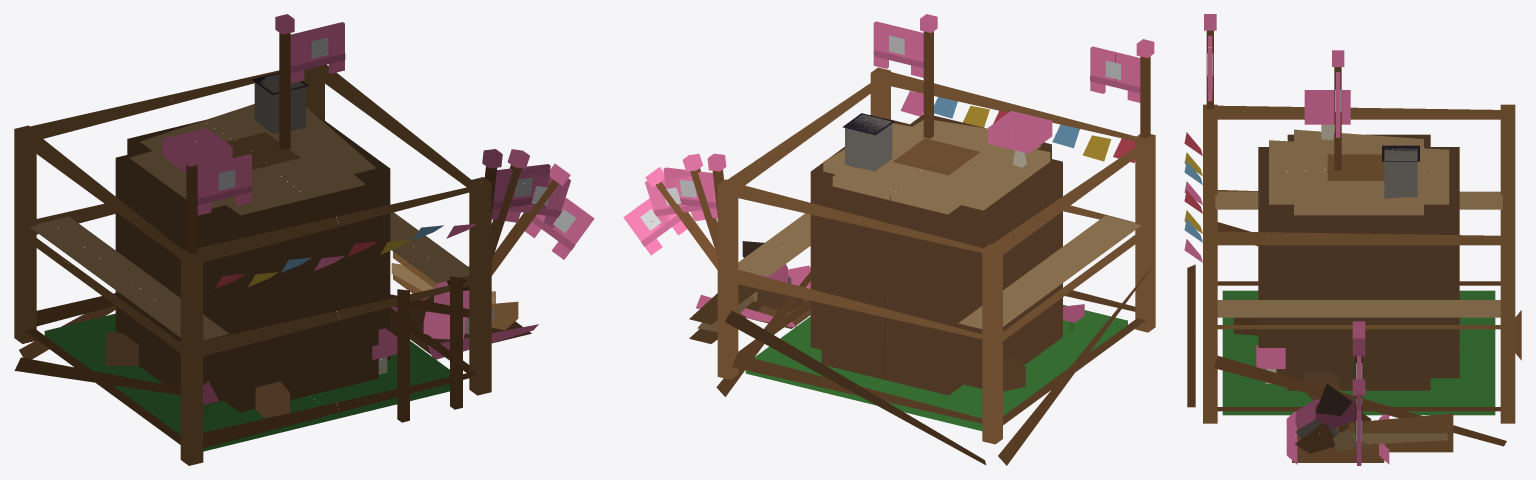
Rendered from opossum-home_lod1.glb.
3 views of the same model, side by side, from view 1: azimuth 30°, elevation 25°; view 2: azimuth 150°, elevation 25°; view 3: azimuth 270°, elevation 25° (orthographic). The views are drawn at different scales.
Visible parts, largest first — view 1: scaffold-mesh, built-mesh, dismantle-75-mesh, dismantle-50-mesh, banner, scaffold-banner, dismantle-25-mesh, dismantle-25-banner, flag-pole, dismantle-75-banner, scaffold-flag-pole, dismantle-25-flag-pole (+3 smaller); view 2: scaffold-mesh, built-mesh, dismantle-75-mesh, dismantle-50-mesh, dismantle-25-mesh, scaffold-banner, banner, dismantle-25-banner, flag-pole, dismantle-75-banner, dismantle-50-banner, scaffold-flag-pole (+2 smaller); view 3: scaffold-mesh, built-mesh, dismantle-75-mesh, dismantle-50-mesh, dismantle-25-mesh, flag-pole, scaffold-flag-pole, scaffold-banner, banner.
Part boxes in pixels (left/top/right/bottom): scaffold-mesh: left=14, top=64, right=491, bottom=465; built-mesh: left=115, top=72, right=392, bottom=417; dismantle-75-mesh: left=115, top=196, right=537, bottom=414; dismantle-50-mesh: left=111, top=287, right=532, bottom=409; banner: left=290, top=22, right=345, bottom=83; scaffold-banner: left=197, top=154, right=252, bottom=215; dismantle-25-mesh: left=111, top=266, right=538, bottom=409; dismantle-25-banner: left=525, top=190, right=594, bottom=259; flag-pole: left=275, top=14, right=294, bottom=149; dismantle-75-banner: left=491, top=164, right=550, bottom=219; scaffold-flag-pole: left=182, top=146, right=201, bottom=254; dismantle-25-flag-pole: left=491, top=163, right=570, bottom=275; scaffold-mesh: left=689, top=67, right=1155, bottom=465; built-mesh: left=745, top=111, right=1084, bottom=430; dismantle-75-mesh: left=696, top=211, right=1071, bottom=394; dismantle-50-mesh: left=698, top=257, right=1062, bottom=394; dismantle-25-mesh: left=742, top=241, right=1074, bottom=394; scaffold-banner: left=1090, top=46, right=1140, bottom=102; banner: left=873, top=21, right=923, bottom=77; dismantle-25-banner: left=623, top=192, right=686, bottom=255; flag-pole: left=920, top=14, right=937, bottom=138; dismantle-75-banner: left=663, top=167, right=717, bottom=218; dismantle-50-banner: left=645, top=176, right=705, bottom=225; scaffold-flag-pole: left=1136, top=39, right=1154, bottom=138; scaffold-mesh: left=1184, top=104, right=1521, bottom=452; built-mesh: left=1258, top=90, right=1459, bottom=396; dismantle-75-mesh: left=1233, top=253, right=1430, bottom=464; dismantle-50-mesh: left=1236, top=317, right=1430, bottom=453; dismantle-25-mesh: left=1234, top=317, right=1370, bottom=453; flag-pole: left=1332, top=50, right=1344, bottom=170; scaffold-flag-pole: left=1204, top=14, right=1216, bottom=109; scaffold-banner: left=1207, top=35, right=1213, bottom=101; banner: left=1335, top=72, right=1341, bottom=137.
Size of the model in its own units: 2.45 by 1.77 by 1.61.
